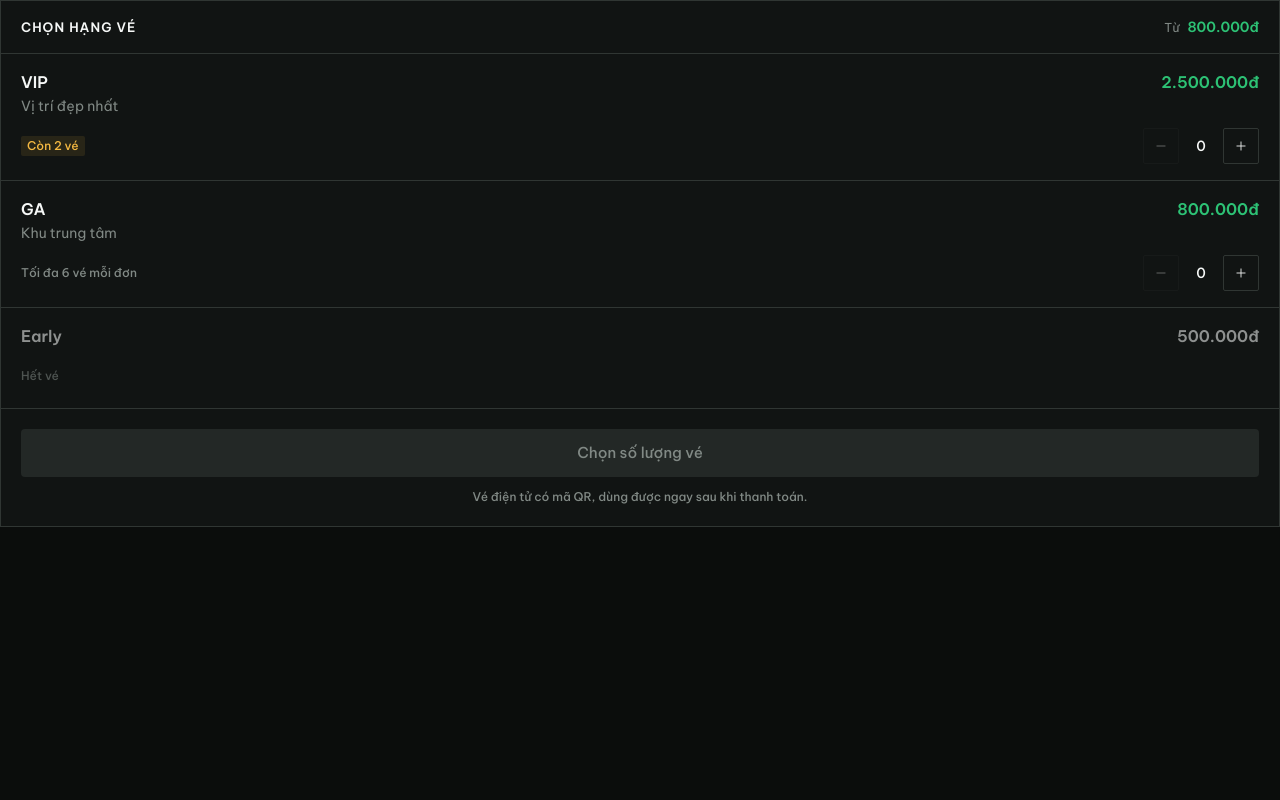
Test case: TicketSelector › giới hạn số lượng theo min(available, maxPerOrder), khóa hạng hết vé
Click the button named "Thêm một vé VIP".
click(1241, 146)  # box [1223,128,1259,164]
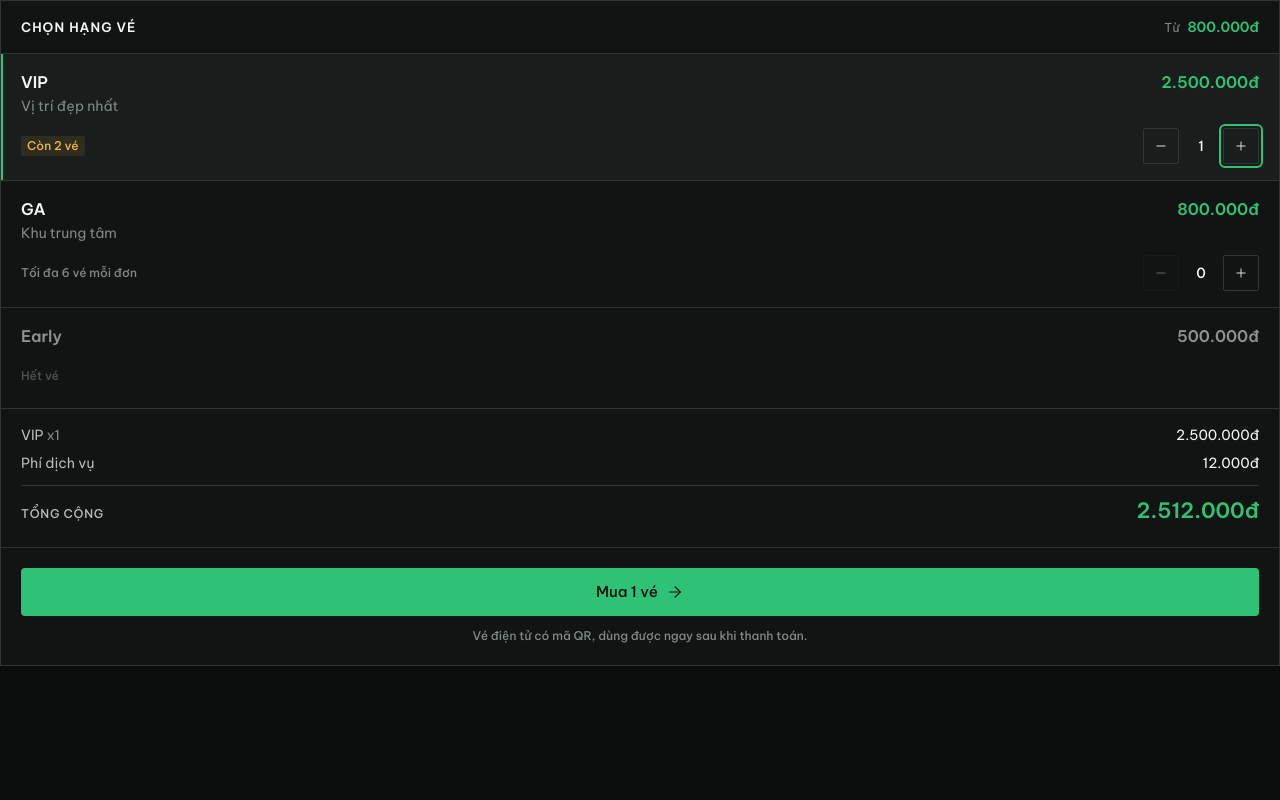
Click the button named "Thêm một vé VIP".
click(1241, 146)  # box [1223,128,1259,164]
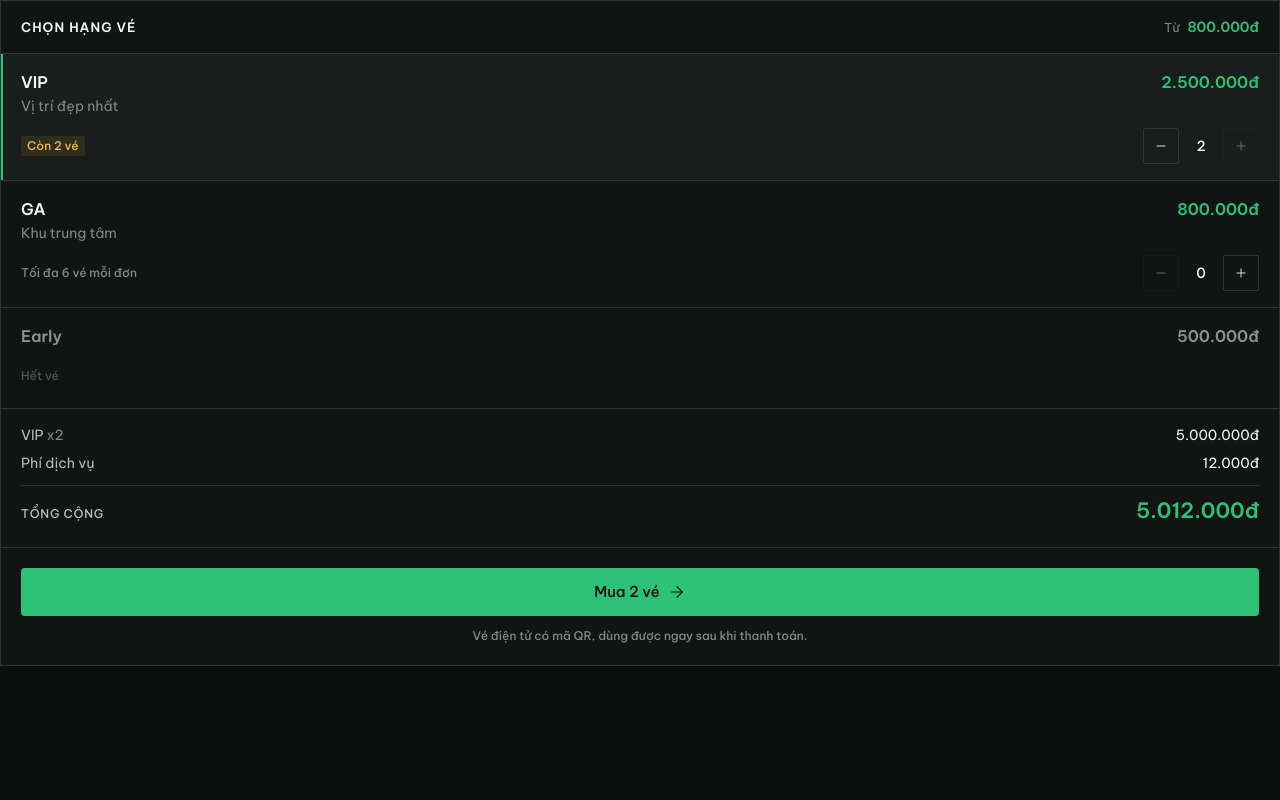
Expected: the text "Hết vé" is shown, [21,368,59,384]
Now the button named "Thêm một vé VIP" is disabled, box [1223,128,1259,164]
